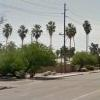Tree: (3, 17, 60, 67)
